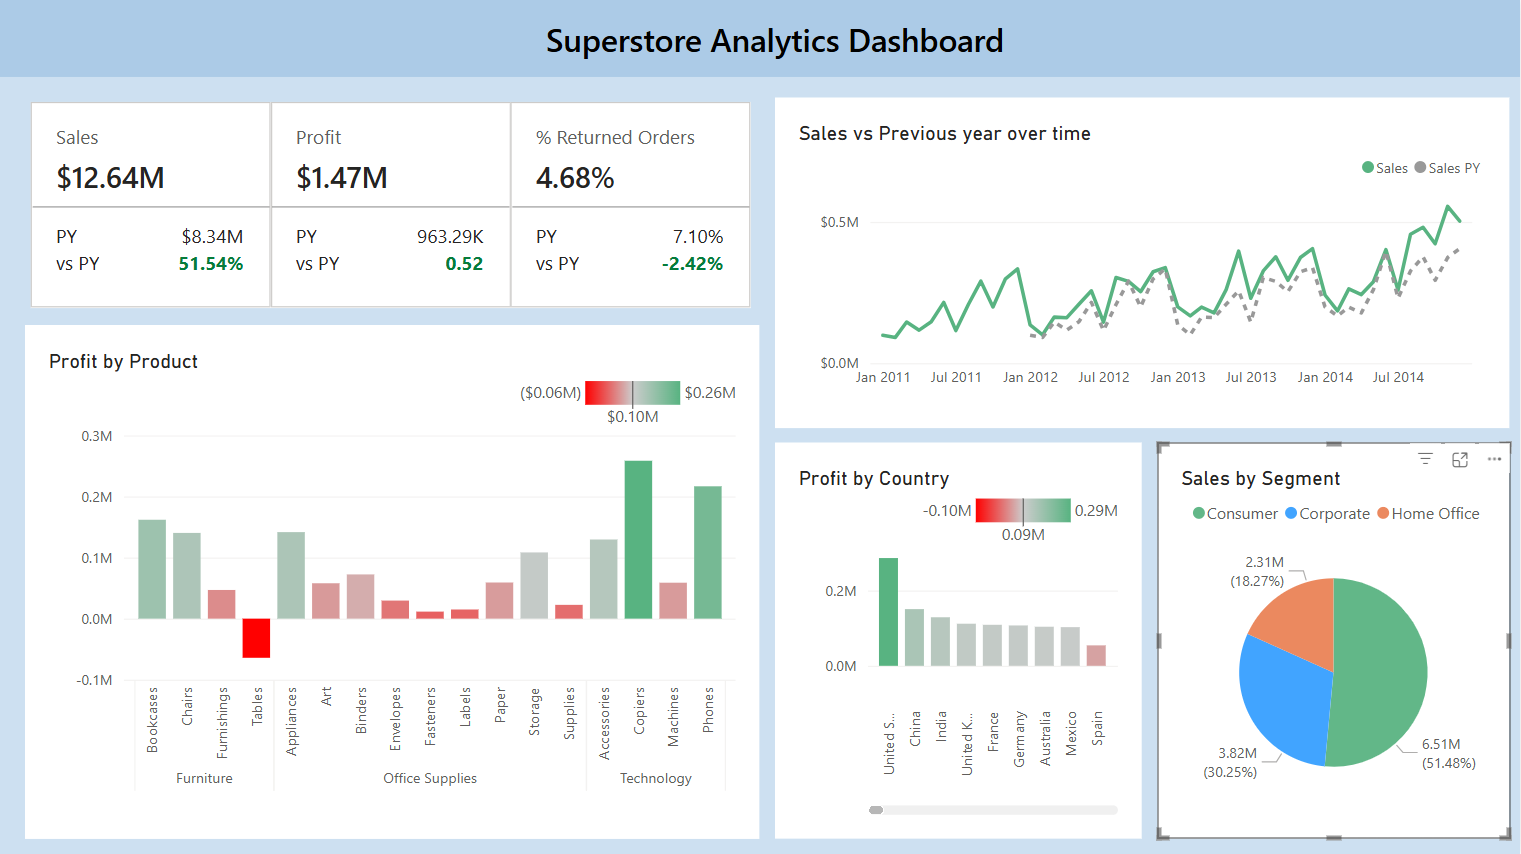

This screenshot's page, from the dashboard's own definition file:
{"tool":"powerbi","page":{"name":"Page 1","canvas":[1280,720],"ordinal":0},"visuals":[{"type":"cardVisual","fields":{"Data":["Key Measures.Sales","Key Measures.Profit","Key Measures.% Returned Orders"]},"box":[21.2,81.2,618.8,183.8],"z":0},{"type":"shape","box":[0,0,1280.3,65.1],"z":1000},{"type":"lineChart","title":"Sales vs Previous year over time","fields":{"Y":["Key Measures.Sales","Key Measures.Sales PY"],"Category":["Date Table.Start of month"]},"box":[652.5,82.1,618.6,278.7],"z":2000},{"type":"columnChart","title":"Profit by Product","fields":{"Category":["Orders.Category","Orders.Sub-Category"],"Y":["Sum(Orders.Profit)"]},"box":[20.8,273.6,618.6,432.7],"z":3000},{"type":"columnChart","title":"Profit by Country","fields":{"Category":["Orders.Country"],"Y":["Sum(Orders.Profit)"]},"box":[652.5,372.5,308.8,333.8],"z":4000},{"type":"pieChart","title":"Sales by Segment","fields":{"Category":["Orders.Segment"],"Y":["Sum(Orders.Sales)"]},"box":[975,372.5,296.2,333.8],"z":5000}]}

Visuals, with their boxes in screenshot pixels (x1, y1, x2, y2), scaled from the page's 1280x720 canvas onto the 1521x854 screenshot:
cardVisual - Key Measures.Sales x Key Measures.Profit: 25,96,760,314
shape: 0,0,1520,77
"Sales vs Previous year over time" lineChart: 775,97,1510,428
"Profit by Product" columnChart: 25,325,760,838
"Profit by Country" columnChart: 775,442,1142,838
"Sales by Segment" pieChart: 1159,442,1511,838
